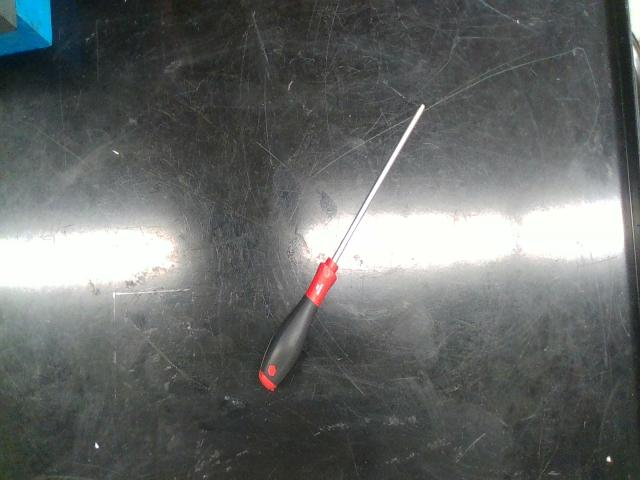Screwdriver: (259, 105, 425, 390)
